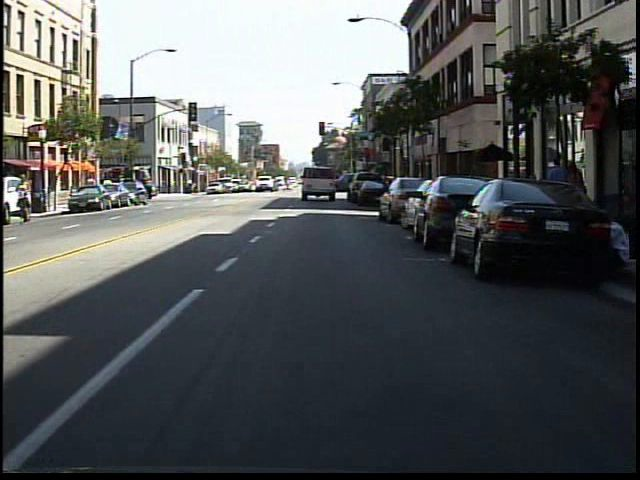person: (541, 153, 569, 232), (564, 157, 588, 227), (15, 167, 39, 229)
